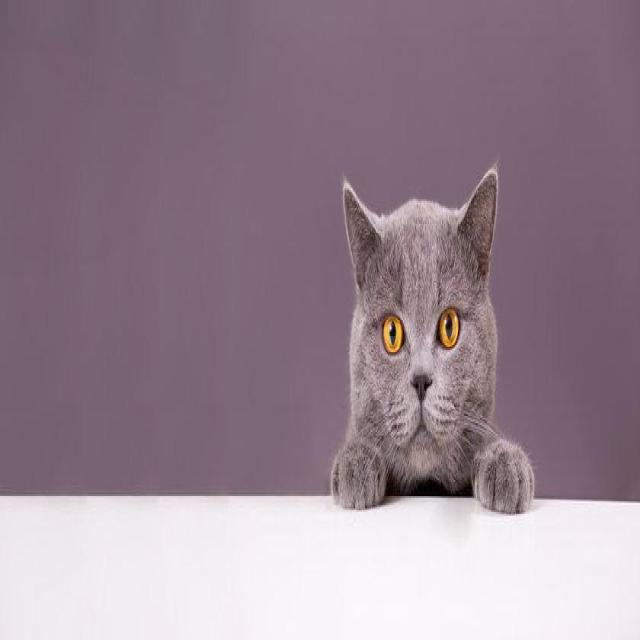Cat: (330, 163, 525, 501)
